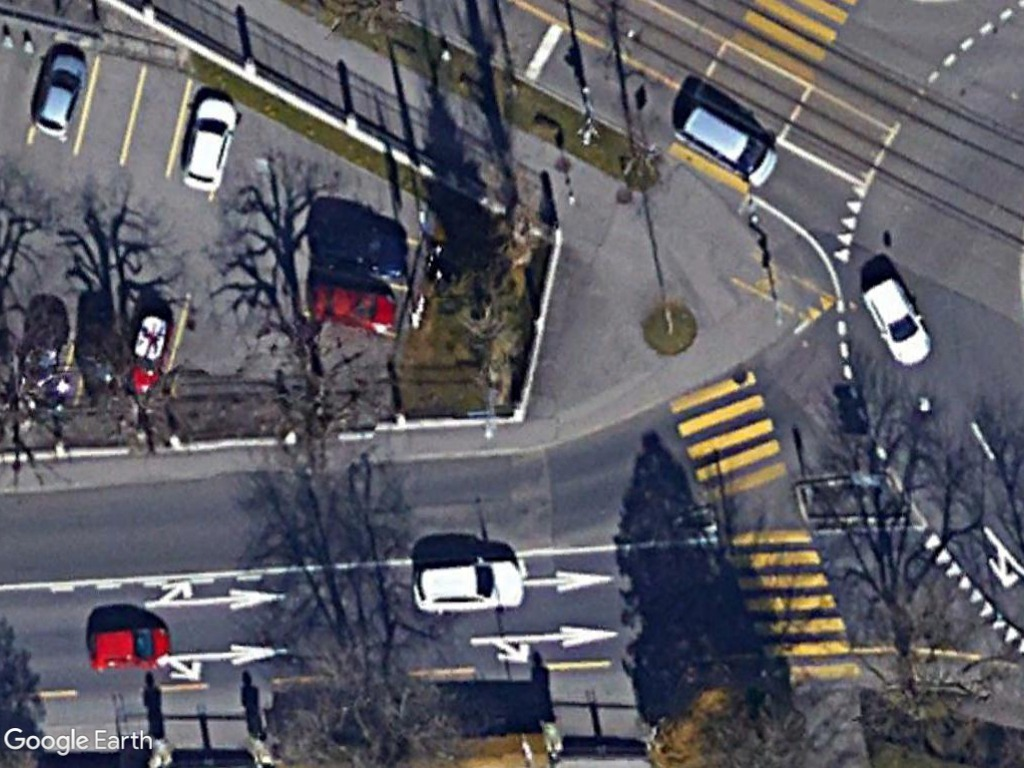car: (861, 271, 936, 370), (409, 555, 530, 613), (177, 95, 240, 194), (31, 50, 88, 141), (82, 624, 171, 675)
van: (674, 102, 779, 190)
